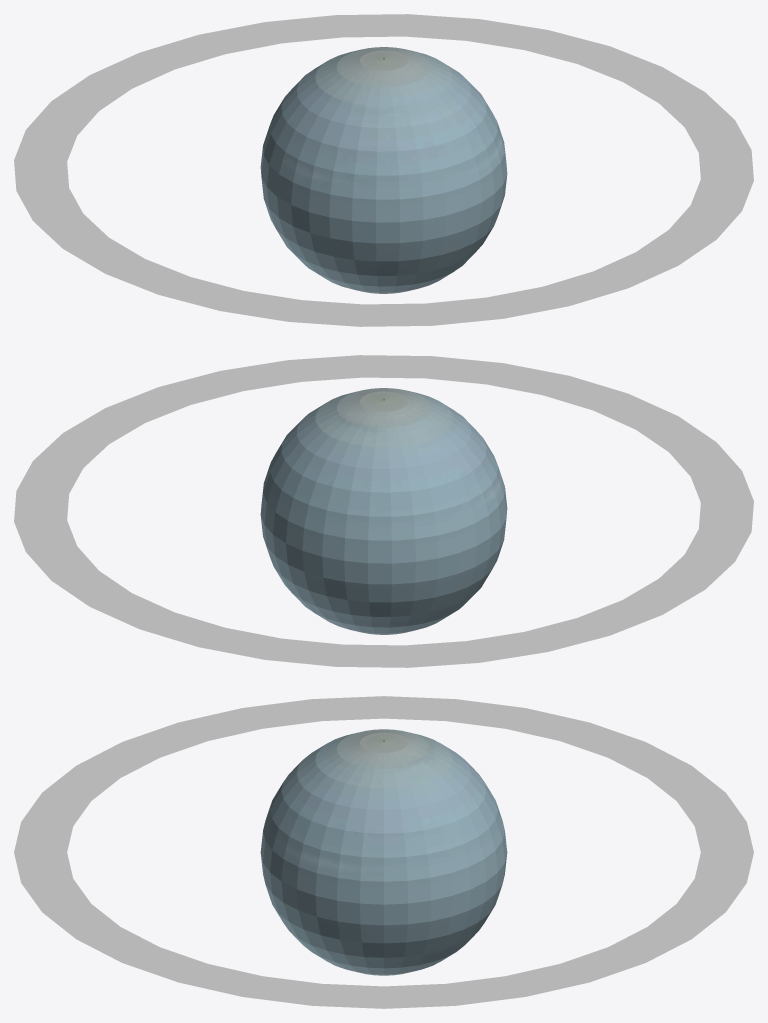
Rendered from Uranus.obj.
The picture shows the model from 3 angles, top to bottom: view 1: azimuth 30°, elevation 25°; view 2: azimuth 150°, elevation 25°; view 3: azimuth 270°, elevation 25°; orthographic projection.
Visible parts, largest first — view 1: Rings_Cylinder, Uranus_Sphere; view 2: Rings_Cylinder, Uranus_Sphere; view 3: Rings_Cylinder, Uranus_Sphere.
Part boxes in pixels (x1,y1,x2,y2): Rings_Cylinder: (14, 14, 753, 326); Uranus_Sphere: (260, 47, 507, 293); Rings_Cylinder: (14, 355, 753, 667); Uranus_Sphere: (260, 388, 507, 634); Rings_Cylinder: (14, 696, 753, 1008); Uranus_Sphere: (260, 729, 507, 975).
Bounding box in the file's own units: 300 × 99.61 × 300.
